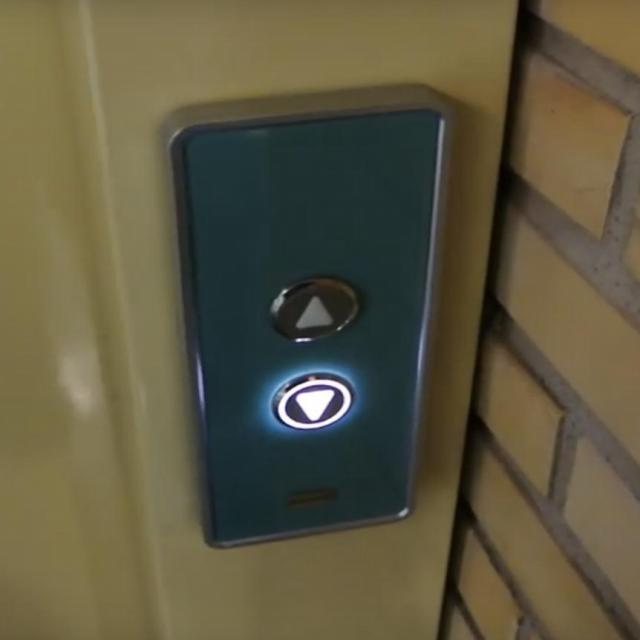down: (268, 366, 359, 434)
up: (267, 273, 365, 345)
